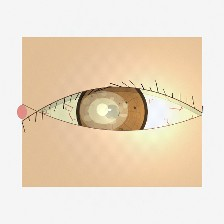corneal_ulcer: (79, 91, 129, 131)
